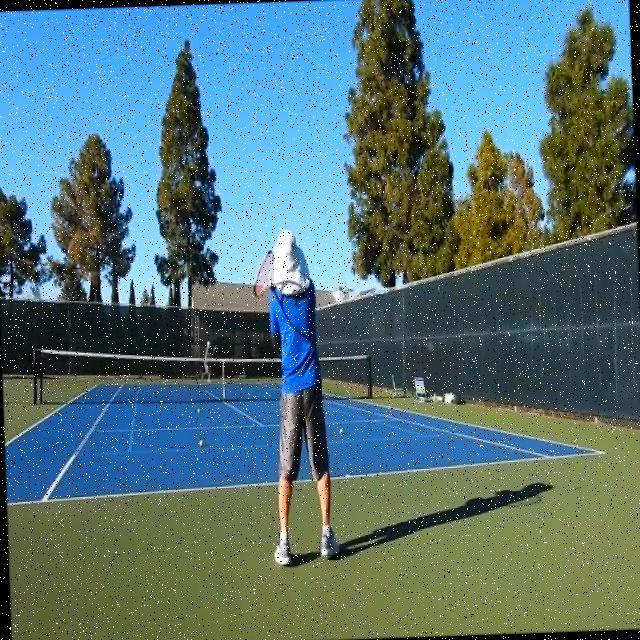court: (2, 368, 608, 506)
net: (30, 334, 374, 412)
player: (250, 227, 340, 568)
